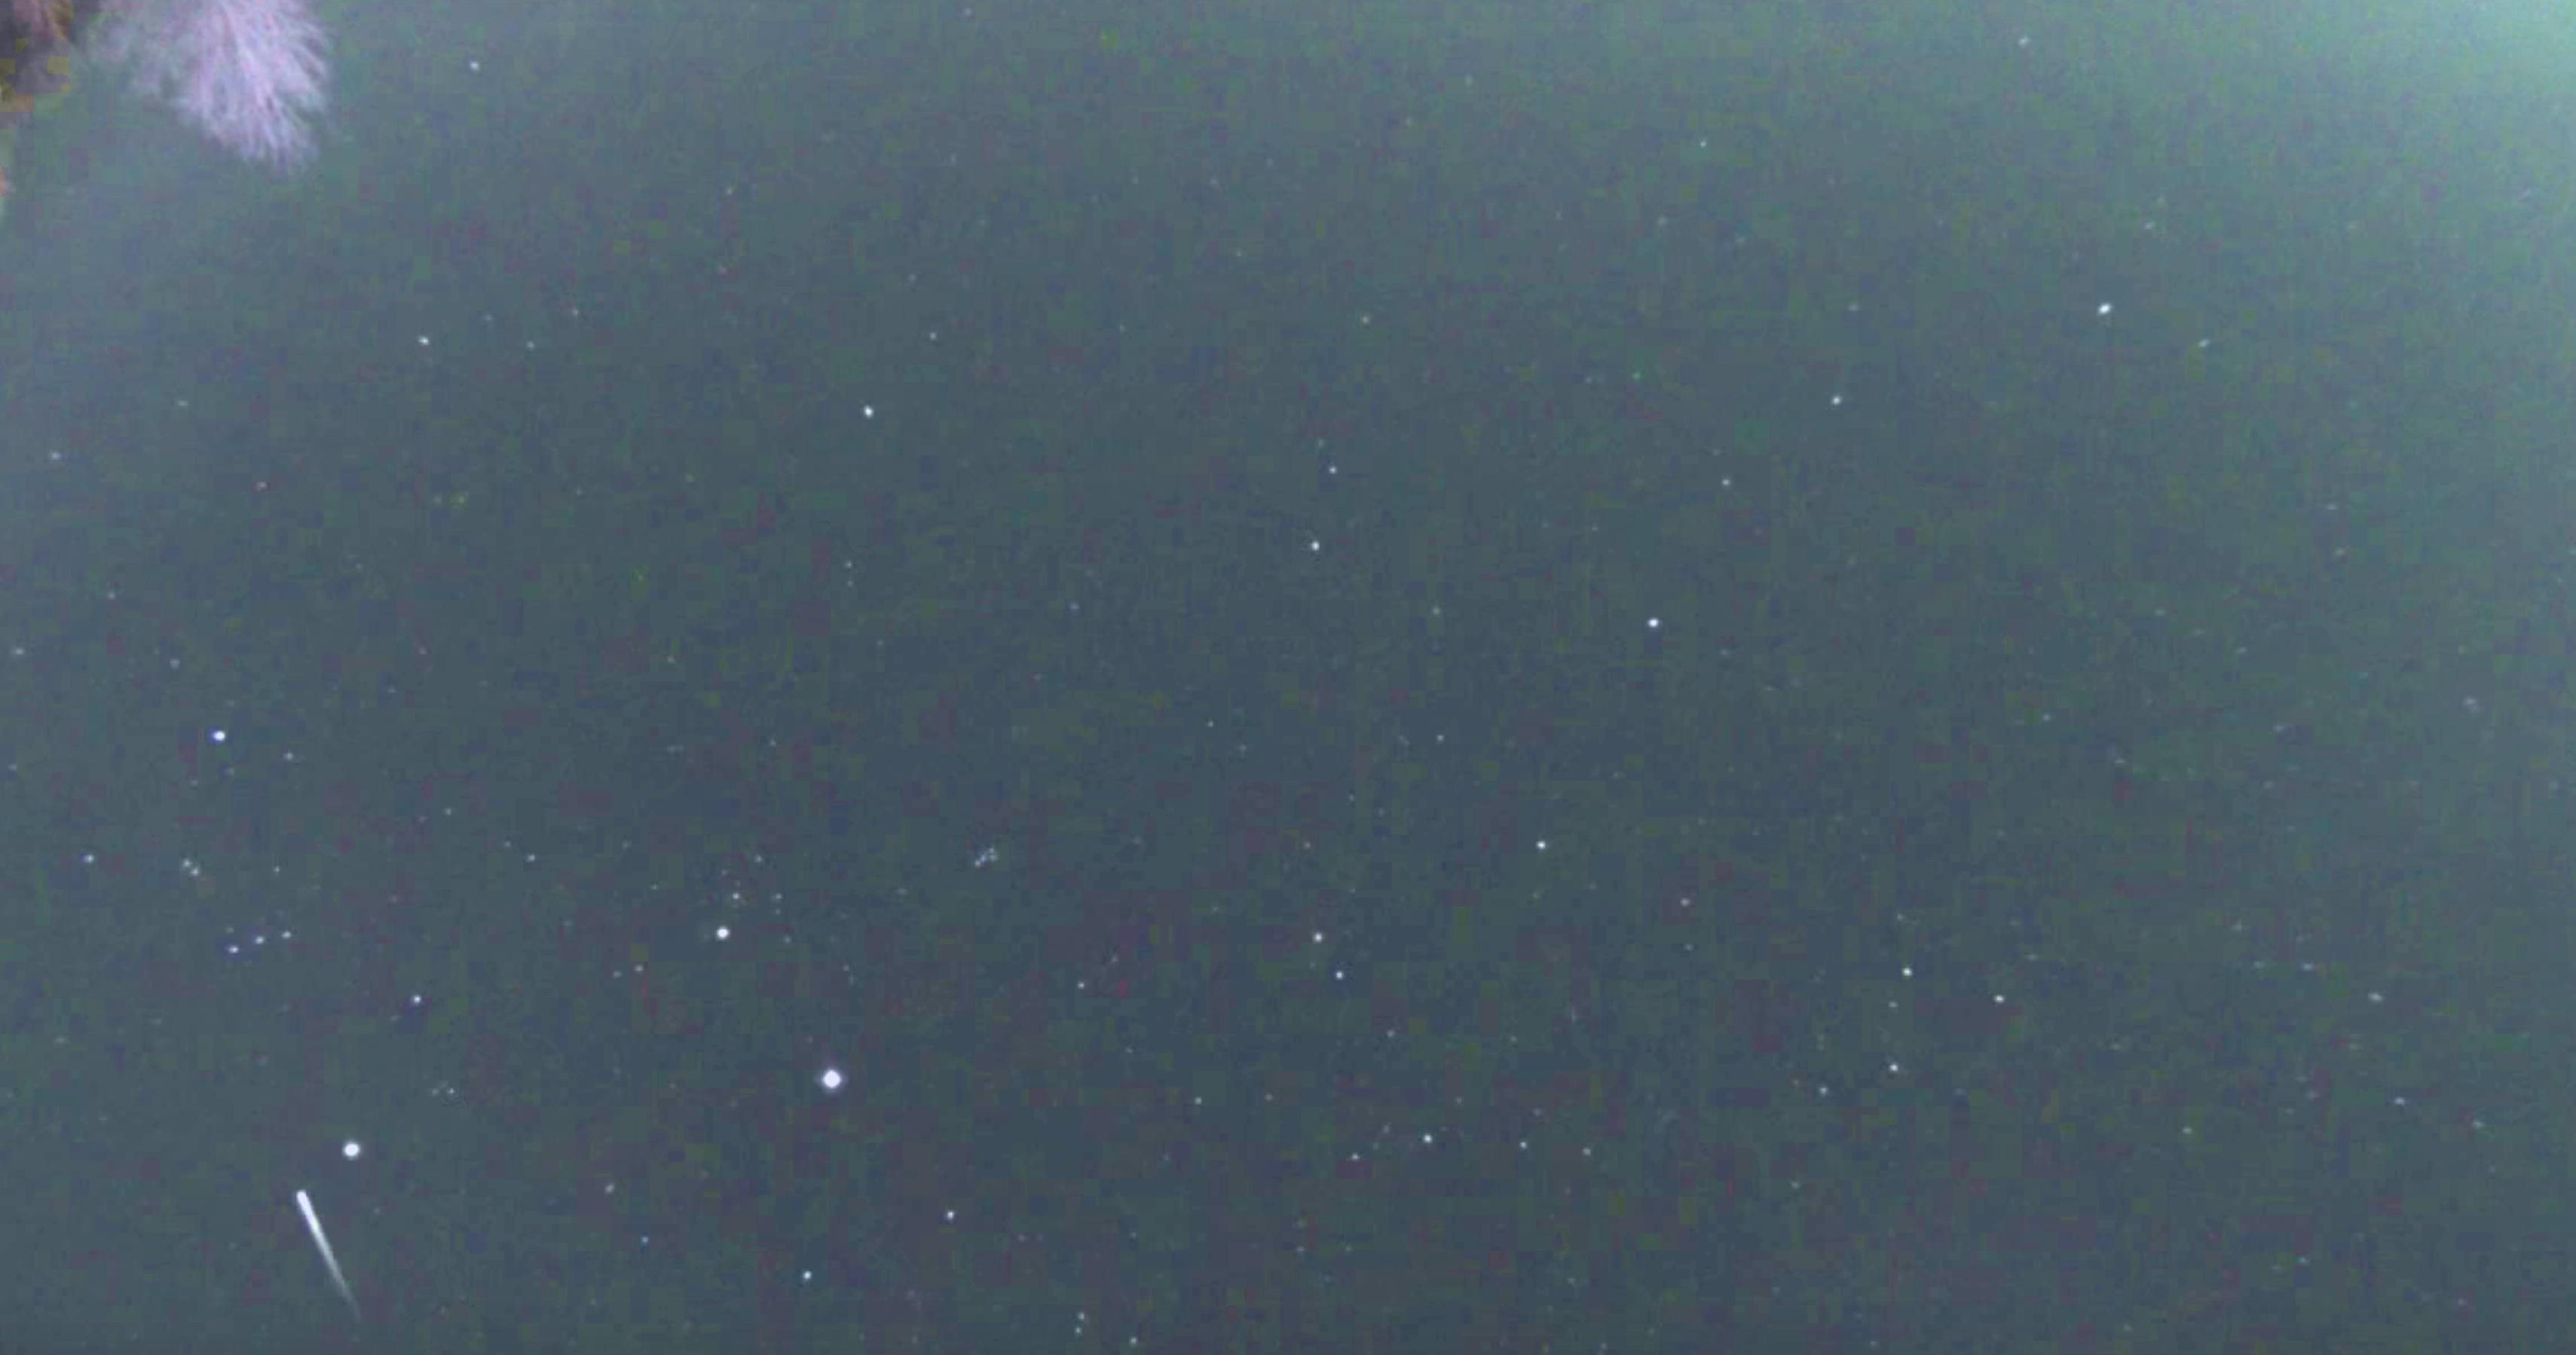meteorite: (249, 1176, 385, 1335)
